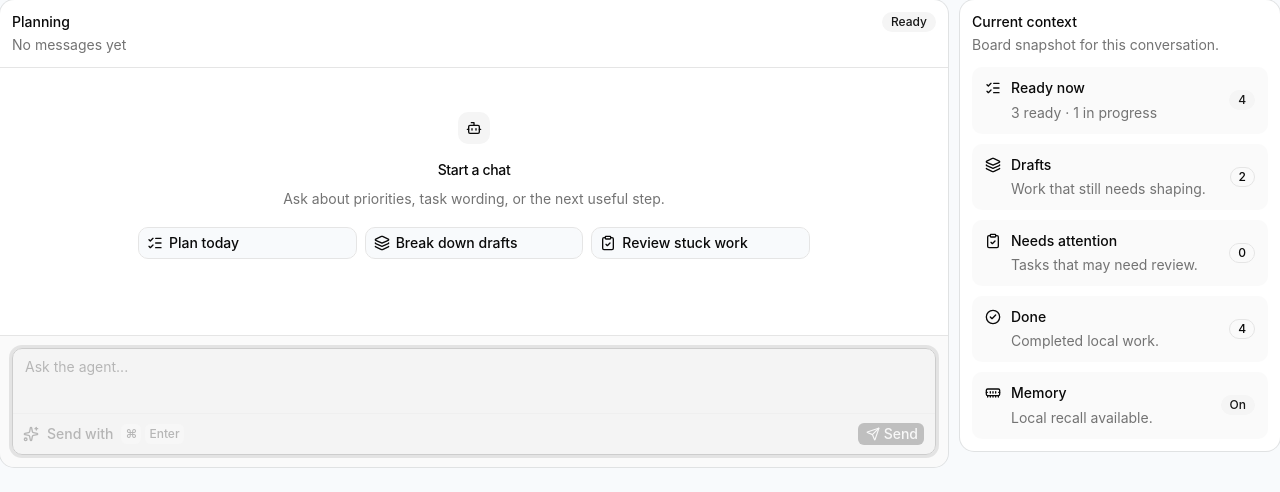
Test: AssistantChatPanel › sends a proactive prompt starter
expect the element that starts with "Start a chat" shows "Break down drafts": met, box [365,227,583,259]
expect the element that starts with "Start a chat" shows "Review stuck work": met, box [591,227,810,259]
Click the button "Plan today" at {"x": 247, "y": 243}, box [138,227,357,259]
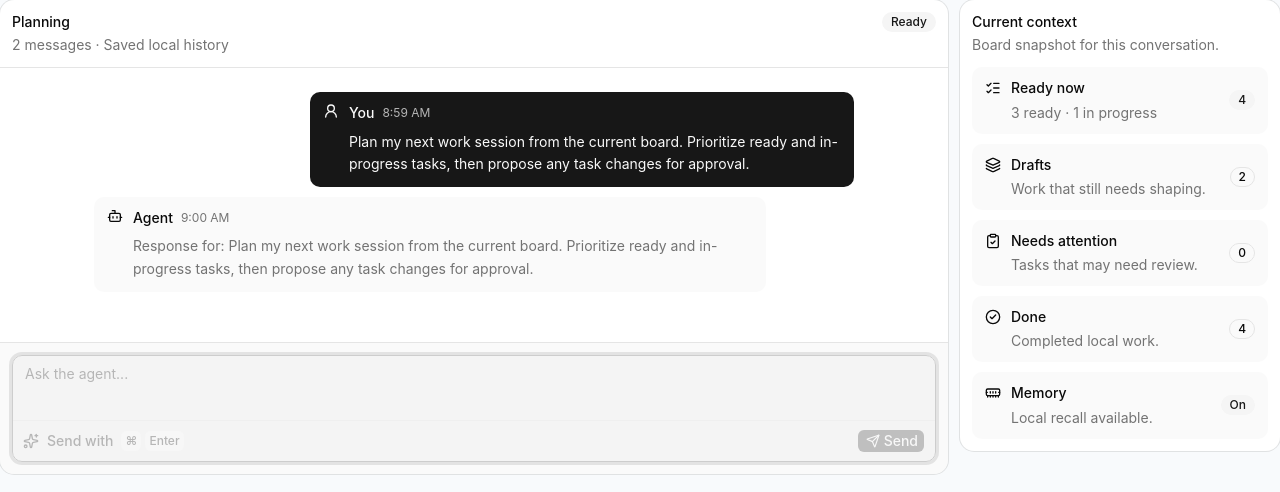
expect the text "Response for" is shown: met, box [133,237,717,277]
